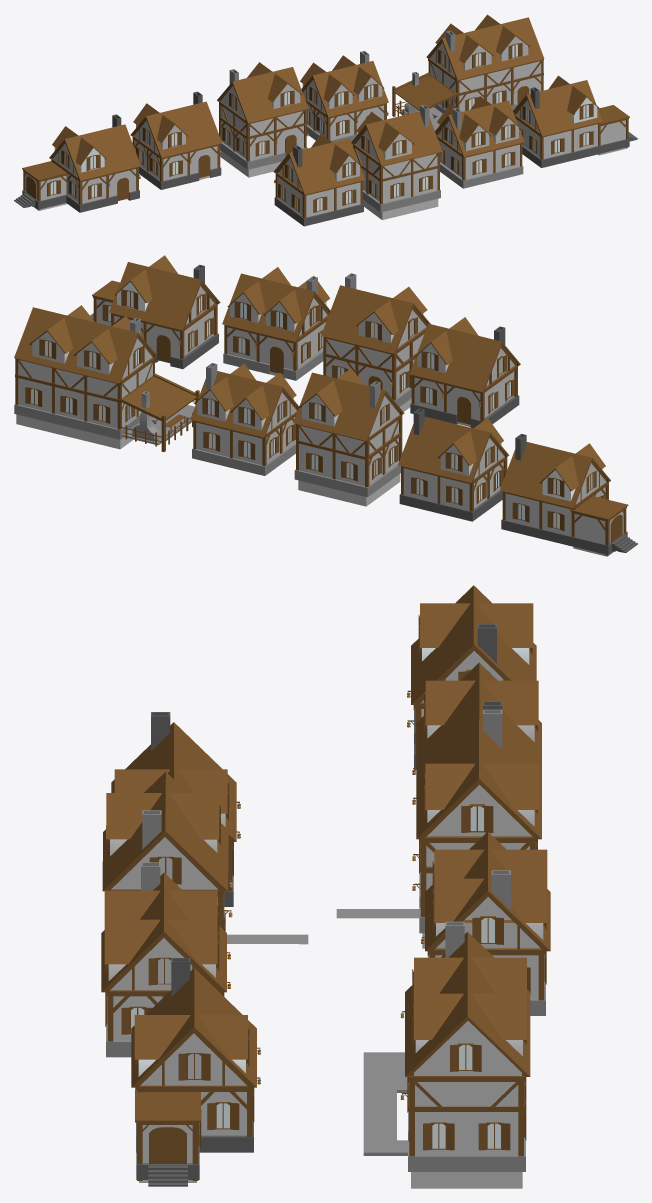
File: casas.obj
3 renders of one model, top to bottom at view 1: azimuth 30°, elevation 25°; view 2: azimuth 150°, elevation 25°; view 3: azimuth 270°, elevation 25°, orthographic. The views are drawn at different scales.
Visible parts, largest first — view 1: house1, house2, house5, house2.001, house5.002, house3, house3.001, house4.001, house4; view 2: house1, house2, house5, house4, house4.001, house3.001, house3, house2.001, house5.002; view 3: house1, house5.002, house4.001, house2, house4, house2.001, house5, house3, house3.001.
Boxes of the visible parts, bbox=[...] form: house1: bbox=[392, 14, 544, 130]; house2: bbox=[217, 62, 308, 177]; house5: bbox=[14, 114, 140, 212]; house2.001: bbox=[351, 105, 442, 219]; house5.002: bbox=[513, 75, 637, 167]; house3: bbox=[130, 91, 221, 189]; house3.001: bbox=[273, 134, 365, 226]; house4.001: bbox=[435, 96, 524, 188]; house4: bbox=[300, 51, 388, 142]; house1: bbox=[14, 305, 199, 451]; house2: bbox=[293, 368, 404, 506]; house5: bbox=[499, 433, 637, 556]; house4: bbox=[190, 363, 298, 475]; house4.001: bbox=[222, 267, 330, 380]; house3.001: bbox=[409, 317, 520, 428]; house3: bbox=[398, 408, 509, 521]; house2.001: bbox=[321, 273, 430, 411]; house5.002: bbox=[90, 255, 220, 369]; house1: bbox=[363, 921, 530, 1188]; house5.002: bbox=[131, 958, 260, 1186]; house4.001: bbox=[101, 862, 230, 1057]; house2: bbox=[336, 709, 541, 948]; house4: bbox=[421, 831, 550, 1015]; house2.001: bbox=[102, 772, 308, 944]; house5: bbox=[407, 585, 536, 769]; house3: bbox=[412, 662, 541, 804]; house3.001: bbox=[111, 712, 240, 906].
Size of the model in its own units: 7.98 by 1.42 by 2.92.
